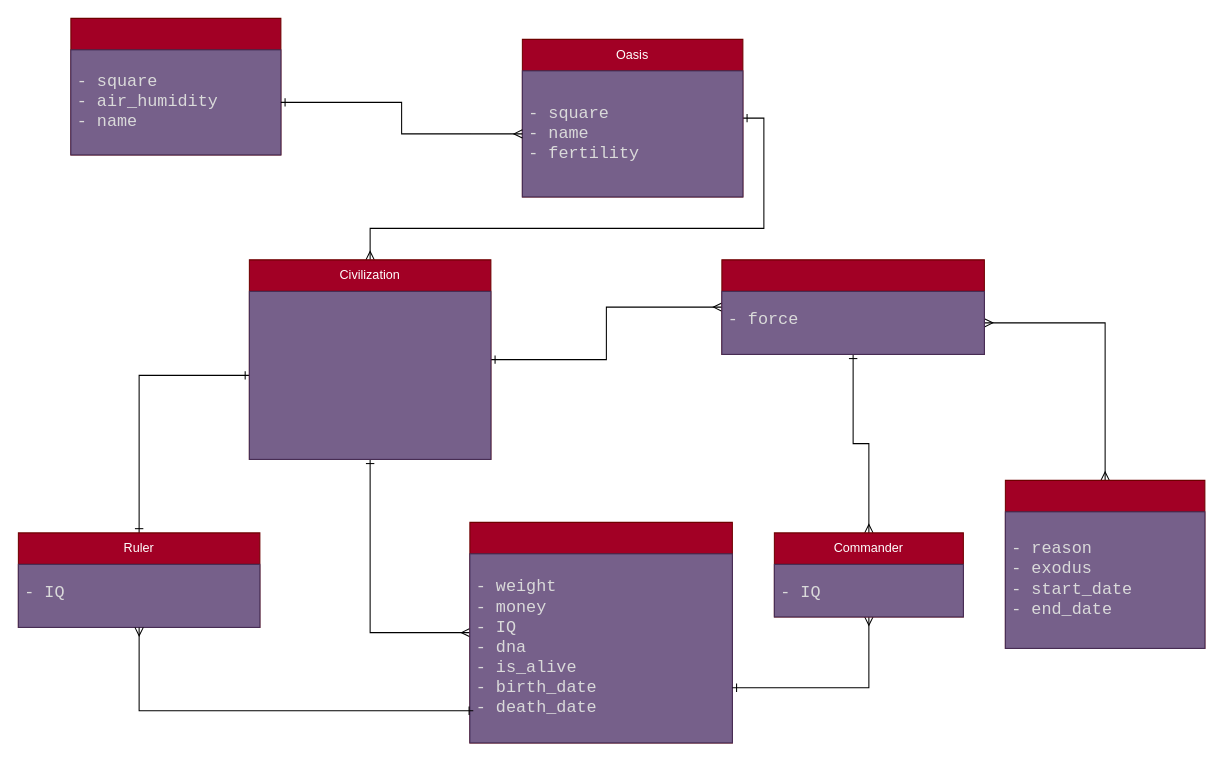
Some shapes in this 1223 by 761 pixel diagram are drawn without their labels. Each missing label, with the box of its shape:
- lore - fertility - name - governmentMode: (248, 290, 491, 459)
Army: (721, 259, 984, 354)
Desert: (70, 17, 281, 155)
Human: (469, 521, 732, 743)
Wars: (1004, 479, 1205, 648)
